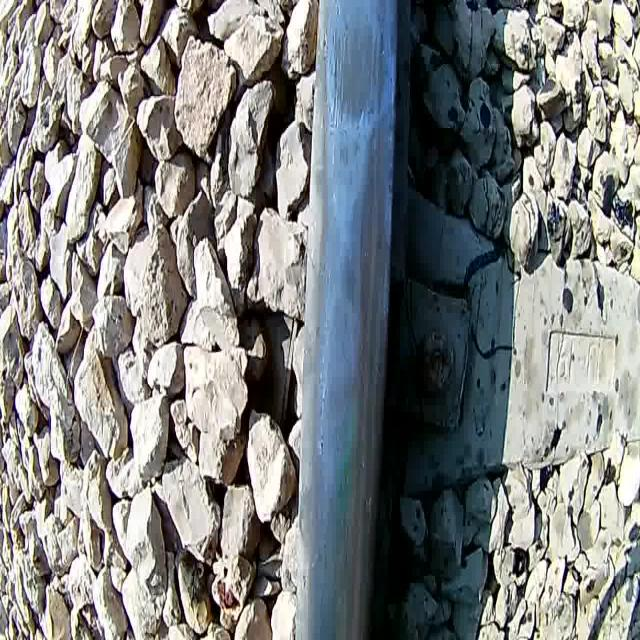Spallings: (342, 113, 391, 640)
Squats: (324, 14, 391, 129)
